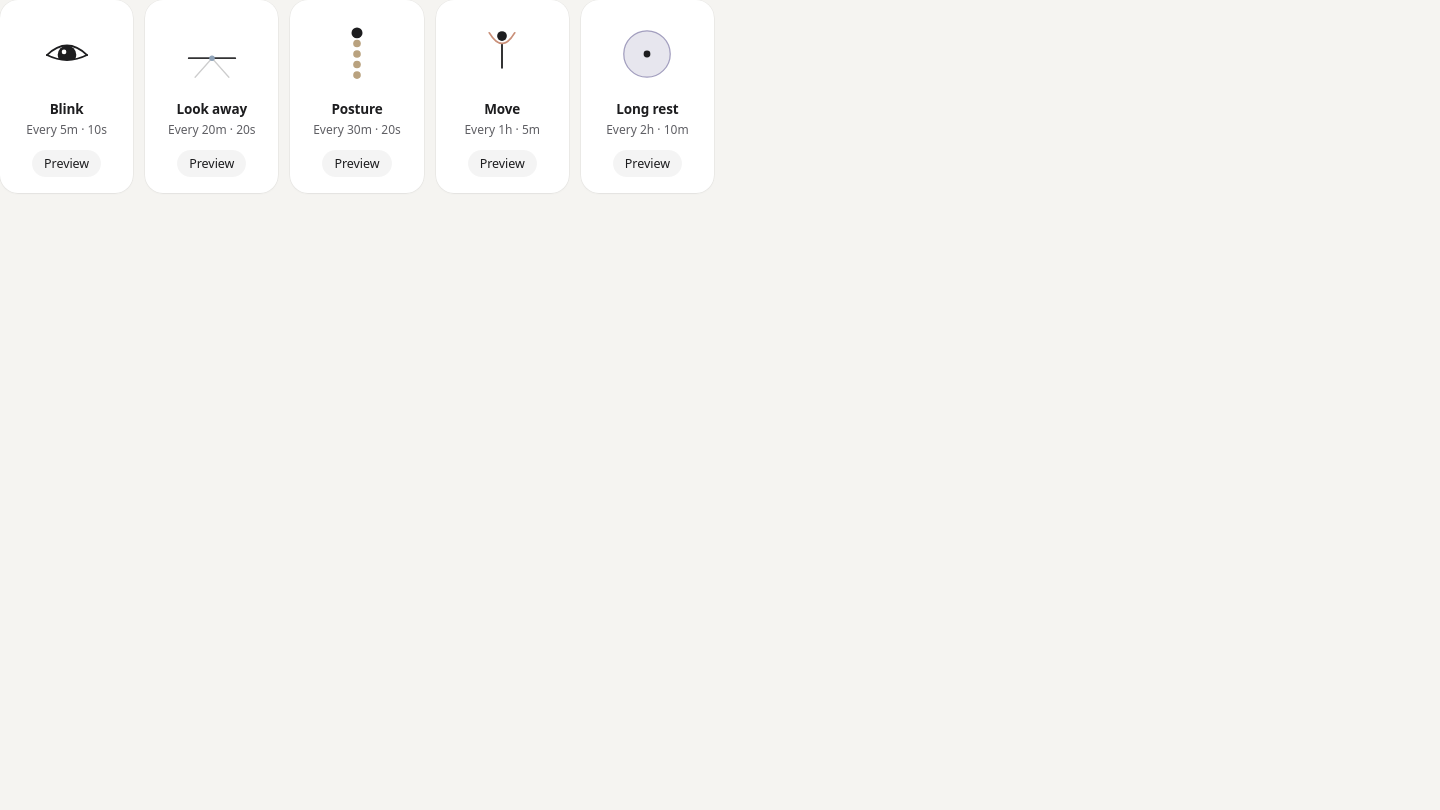
Test: Gallery › previews the real reminder locally and closes it on Done
The width and height of the screenshot is (1440, 810).
Click the button with test id "gallery-preview-posture".
click(357, 164)  # box [322,150,392,177]
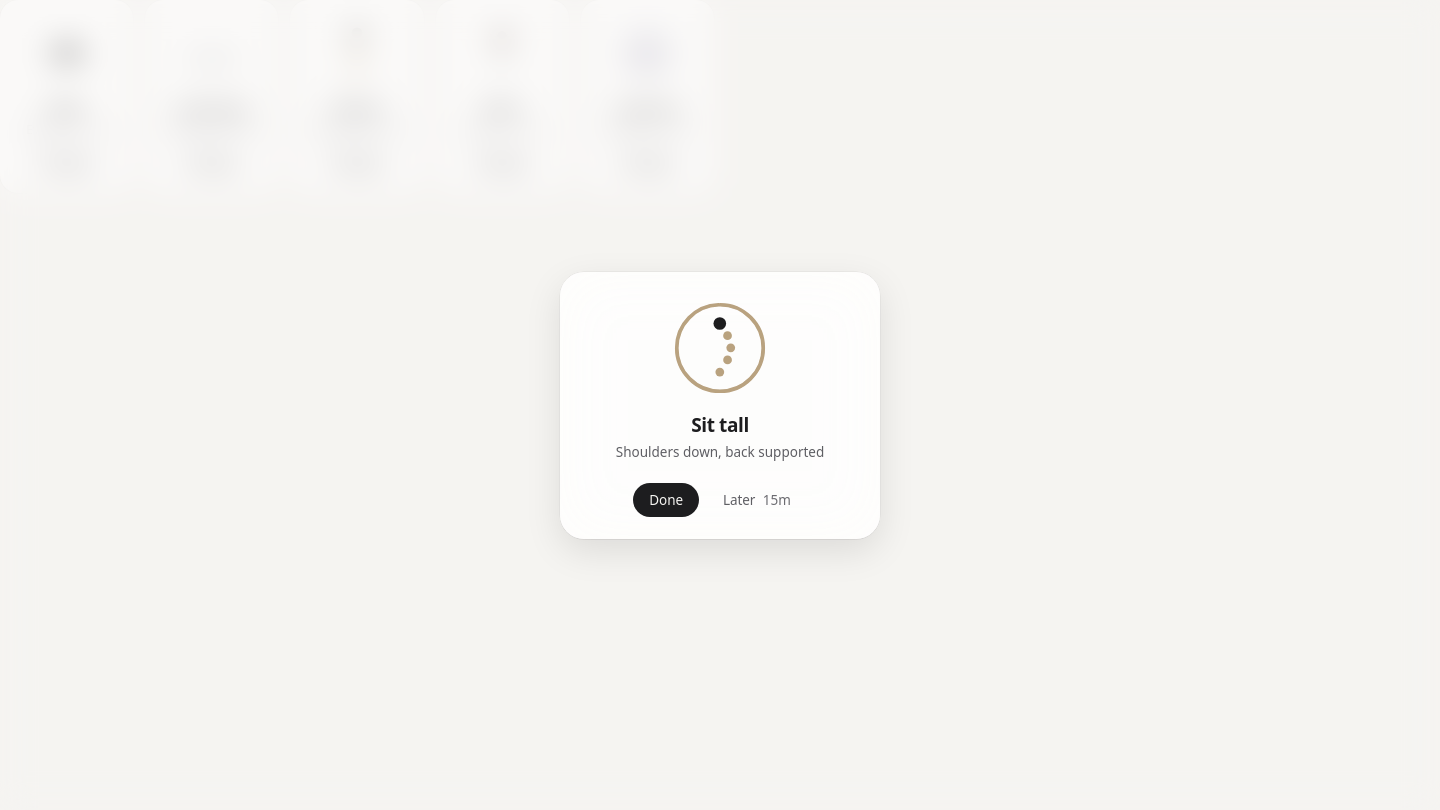
Expected: the dialog "Sit tall" is shown, [560,272,880,538]
Click the button with test id "reminder-done".
click(666, 500)  # box [633,482,699,516]
Wait 200 ms
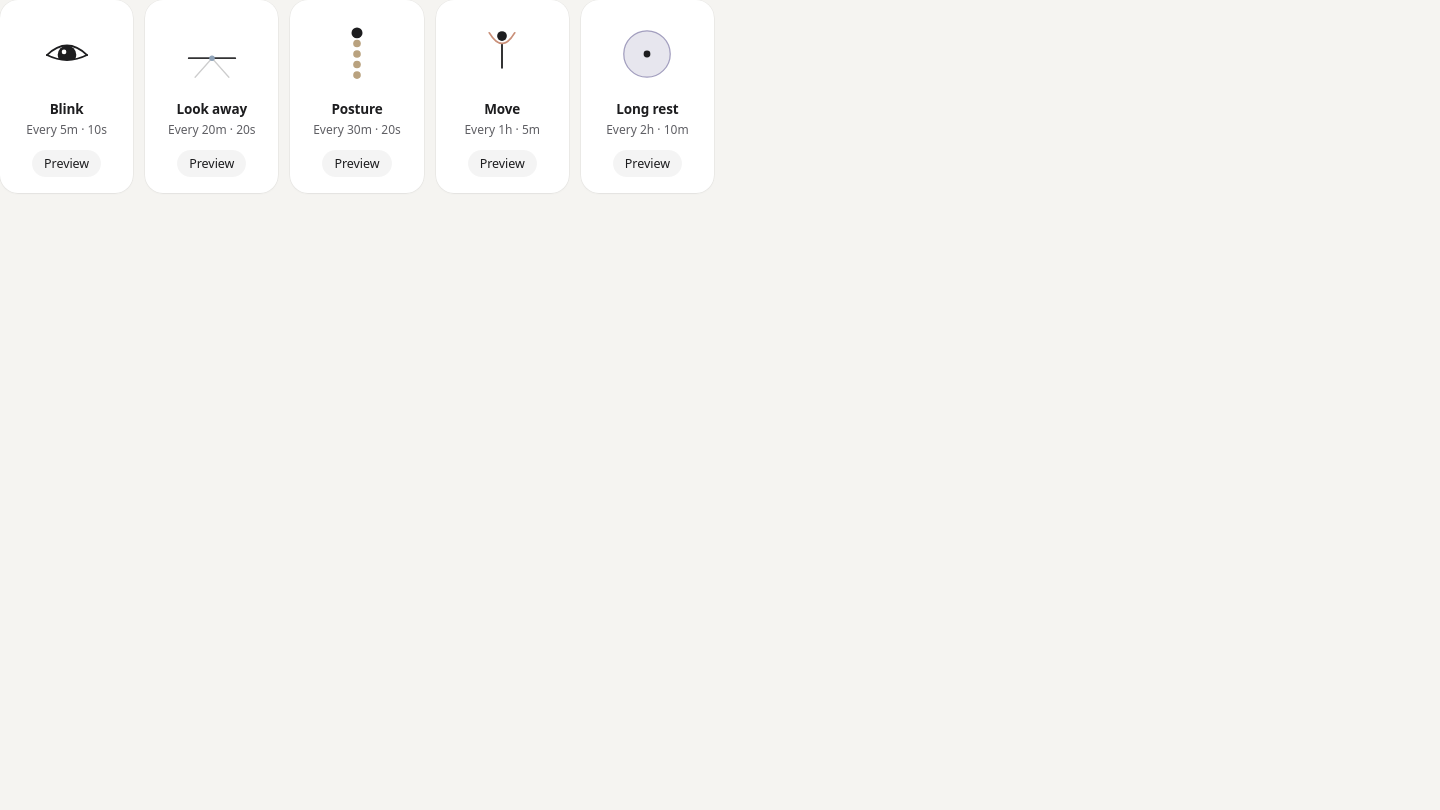
Expected: the dialog is gone
